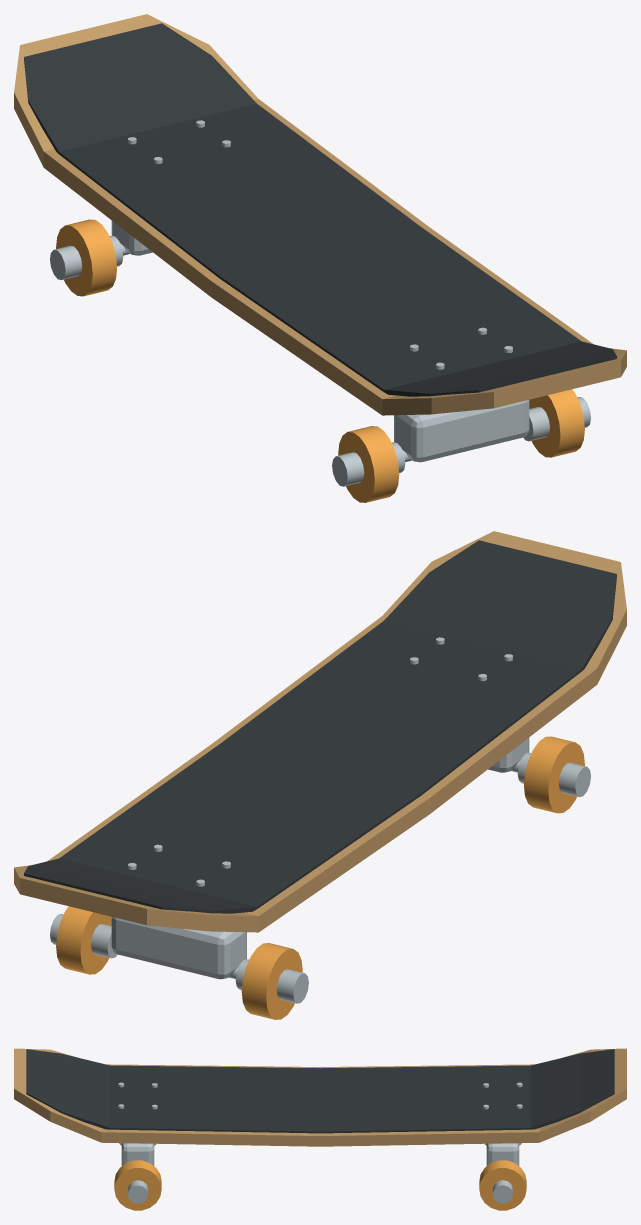
The model's file is skateboard.glb.
3 views of the same model, one above another, from view 1: azimuth 30°, elevation 25°; view 2: azimuth 150°, elevation 25°; view 3: azimuth 270°, elevation 25° (orthographic). The views are drawn at different scales.
Visible parts, largest first — view 1: Skateboard fitted grip surface, Skateboard curved wooden deck, Skateboard truck hanger, Skateboard wheel tire.002, Skateboard wheel tire, Skateboard wheel tire.001, Skateboard wheel hub, Skateboard wheel hub.004; view 2: Skateboard fitted grip surface, Skateboard curved wooden deck, Skateboard truck hanger.001, Skateboard wheel tire, Skateboard wheel tire.002, Skateboard wheel tire.003, Skateboard wheel hub.004, Skateboard wheel hub; view 3: Skateboard fitted grip surface, Skateboard curved wooden deck, Skateboard wheel tire.001, Skateboard wheel tire.003, Skateboard truck hanger, Skateboard truck hanger.001, Skateboard wheel hub.003, Skateboard wheel hub.007.
Boxes of the visible parts, <box> form: Skateboard fitted grip surface: <box>24,23,616,396</box>; Skateboard curved wooden deck: <box>14,14,626,415</box>; Skateboard truck hanger: <box>394,400,529,462</box>; Skateboard wheel tire.002: <box>56,219,116,296</box>; Skateboard wheel tire: <box>338,426,399,502</box>; Skateboard wheel tire.001: <box>529,389,584,457</box>; Skateboard wheel hub: <box>332,452,364,486</box>; Skateboard wheel hub.004: <box>50,245,82,280</box>; Skateboard fitted grip surface: <box>24,540,616,913</box>; Skateboard curved wooden deck: <box>14,531,626,932</box>; Skateboard truck hanger.001: <box>111,917,246,979</box>; Skateboard wheel tire: <box>524,736,584,813</box>; Skateboard wheel tire.002: <box>241,943,302,1019</box>; Skateboard wheel tire.003: <box>56,906,111,974</box>; Skateboard wheel hub.004: <box>276,969,308,1003</box>; Skateboard wheel hub: <box>558,762,590,797</box>; Skateboard fitted grip surface: <box>26,1049,614,1133</box>; Skateboard curved wooden deck: <box>14,1048,626,1146</box>; Skateboard wheel tire.001: <box>114,1160,161,1210</box>; Skateboard wheel tire.003: <box>479,1160,526,1210</box>; Skateboard truck hanger: <box>121,1143,154,1165</box>; Skateboard truck hanger.001: <box>486,1143,519,1165</box>; Skateboard wheel hub.003: <box>128,1180,148,1203</box>; Skateboard wheel hub.007: <box>492,1180,512,1203</box>.
Size of the model in its own units: 0.249 by 0.1645 by 0.84.
